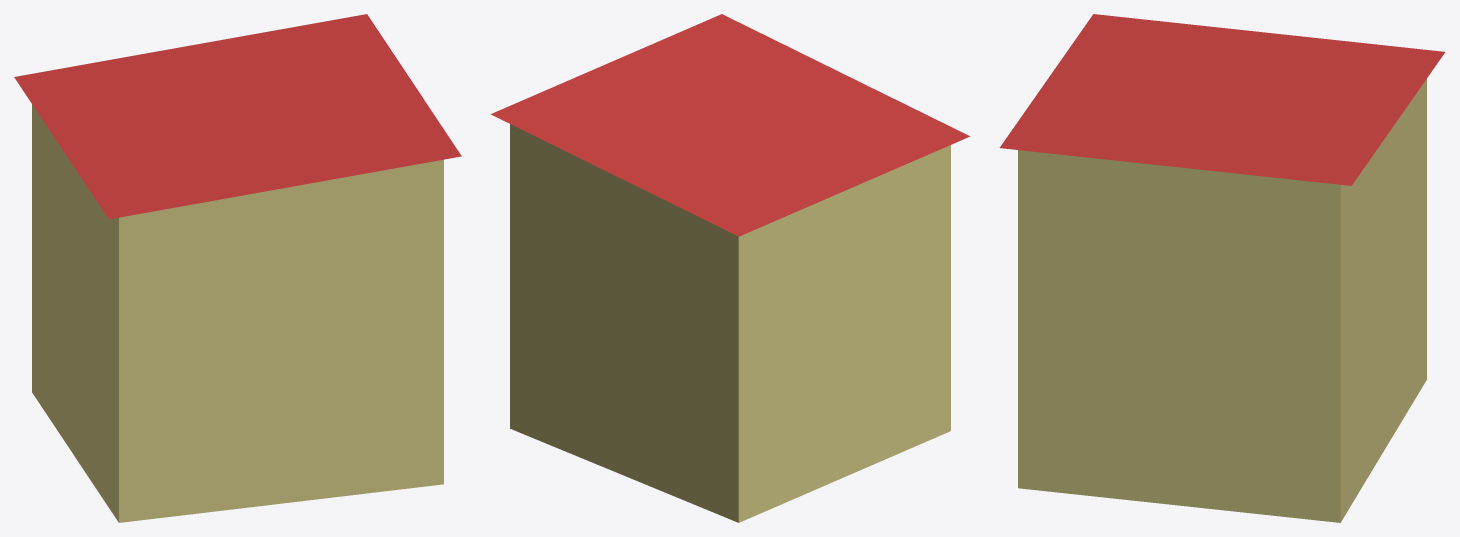
3 views of the same model, side by side, from view 1: azimuth 30°, elevation 25°; view 2: azimuth 150°, elevation 25°; view 3: azimuth 270°, elevation 25° (orthographic). The views are drawn at different scales.
Size of the model in its own units: 7.53 by 7.32 by 6.24.
